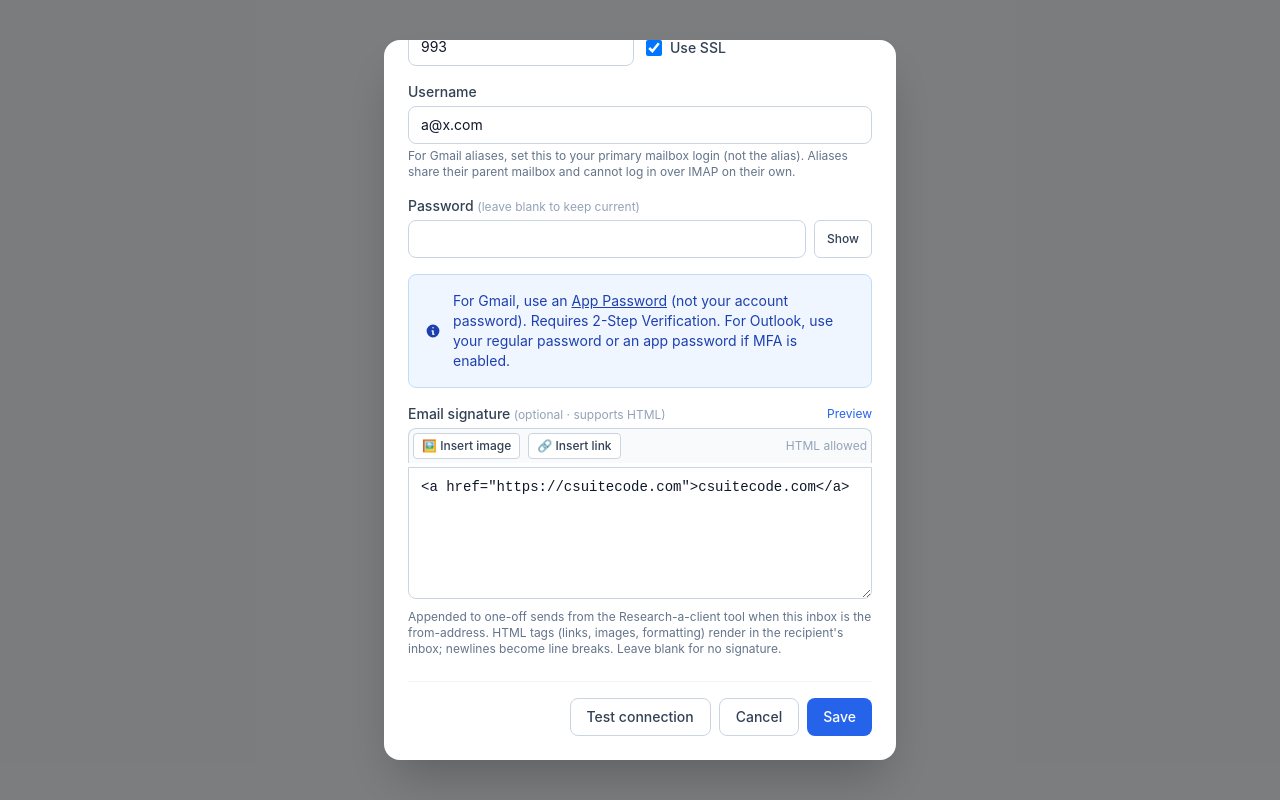
Test case: ConnectInboxModal › Preview toggle swaps the textarea for a rendered HTML pane
(page scrolled)
Check: the text box with test id "inbox-signature" is shown, box [408, 467, 872, 599]
# Toggle to preview.
Click the button with test id "signature-preview-toggle" at (850, 414), box [827, 406, 872, 422]
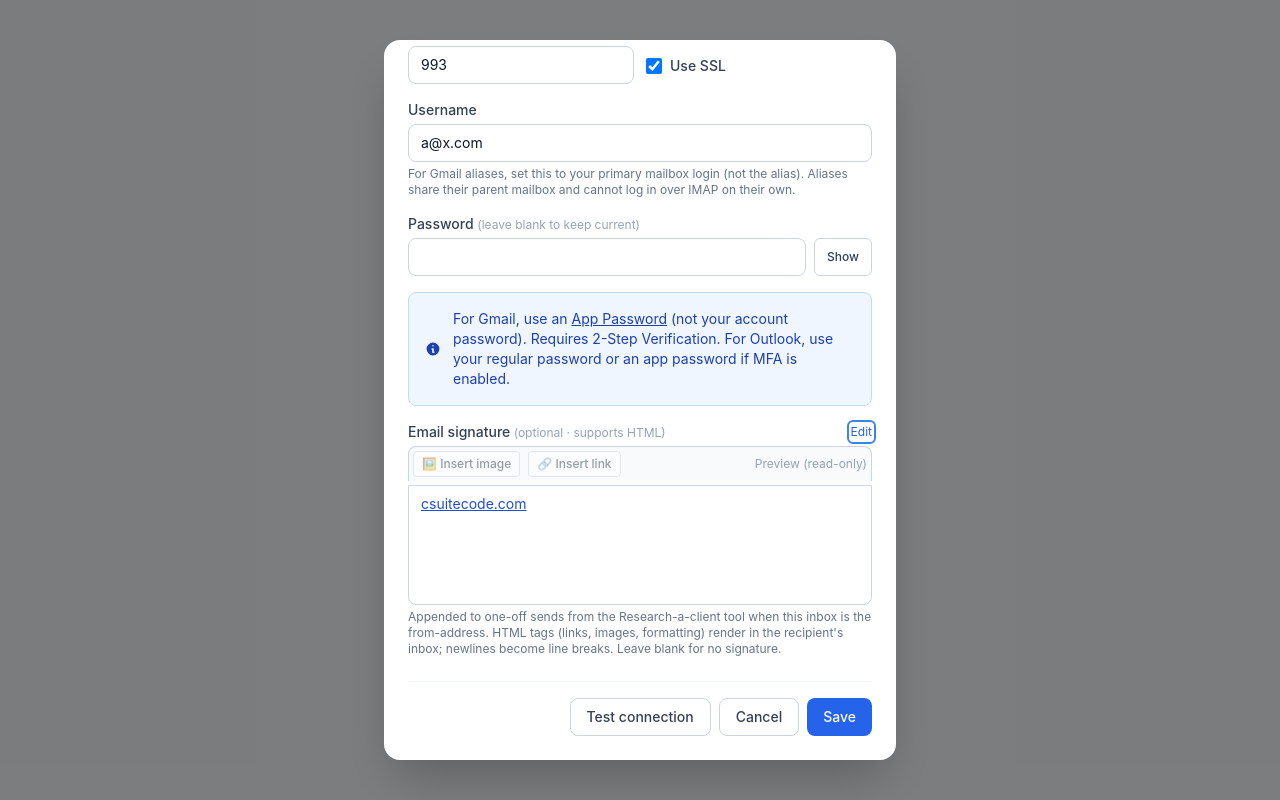
Check: the text box with test id "inbox-signature" is gone
Check: the button with test id "signature-insert-link" is disabled, box [528, 451, 621, 477]
Check: the button with test id "signature-insert-image" is disabled, box [413, 451, 520, 477]
# Toggle back.
Click the button with test id "signature-preview-toggle" at (861, 432), box [851, 424, 872, 440]
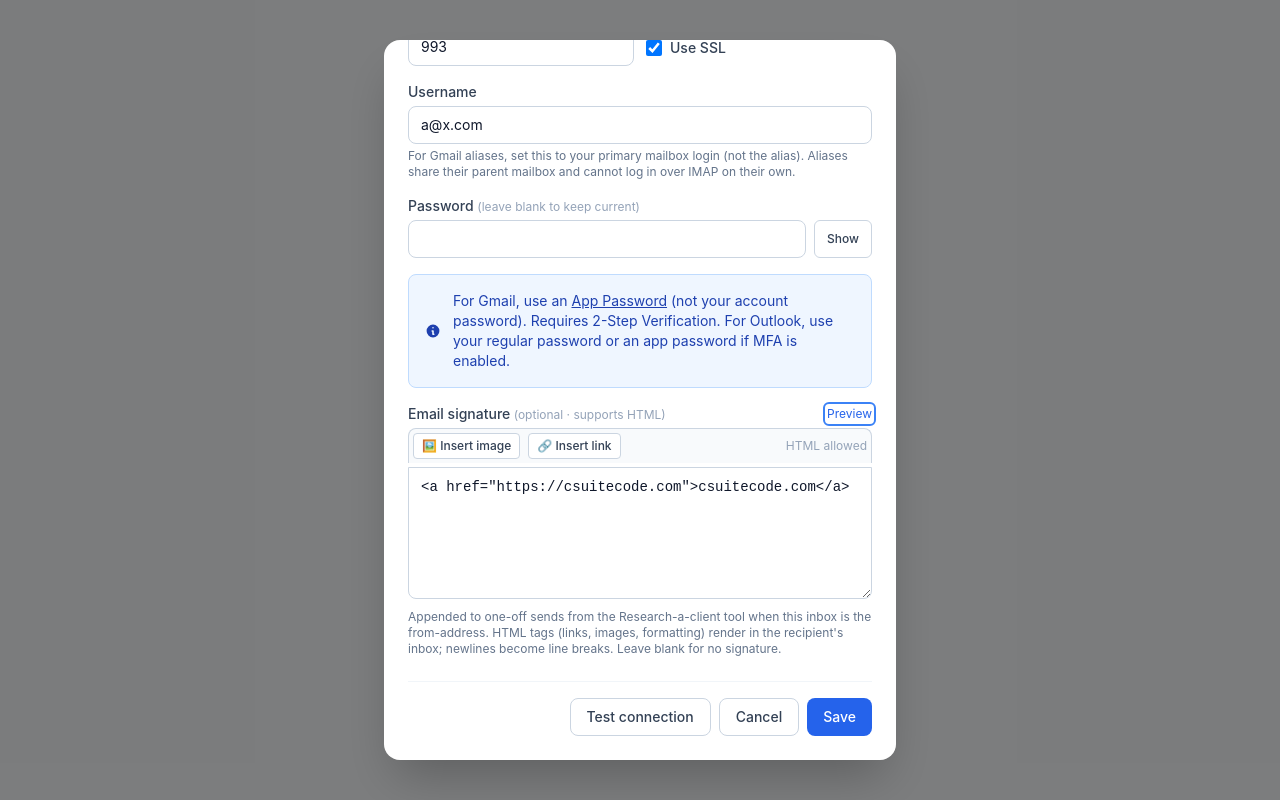
Check: the text box with test id "inbox-signature" is shown, box [408, 467, 872, 599]
